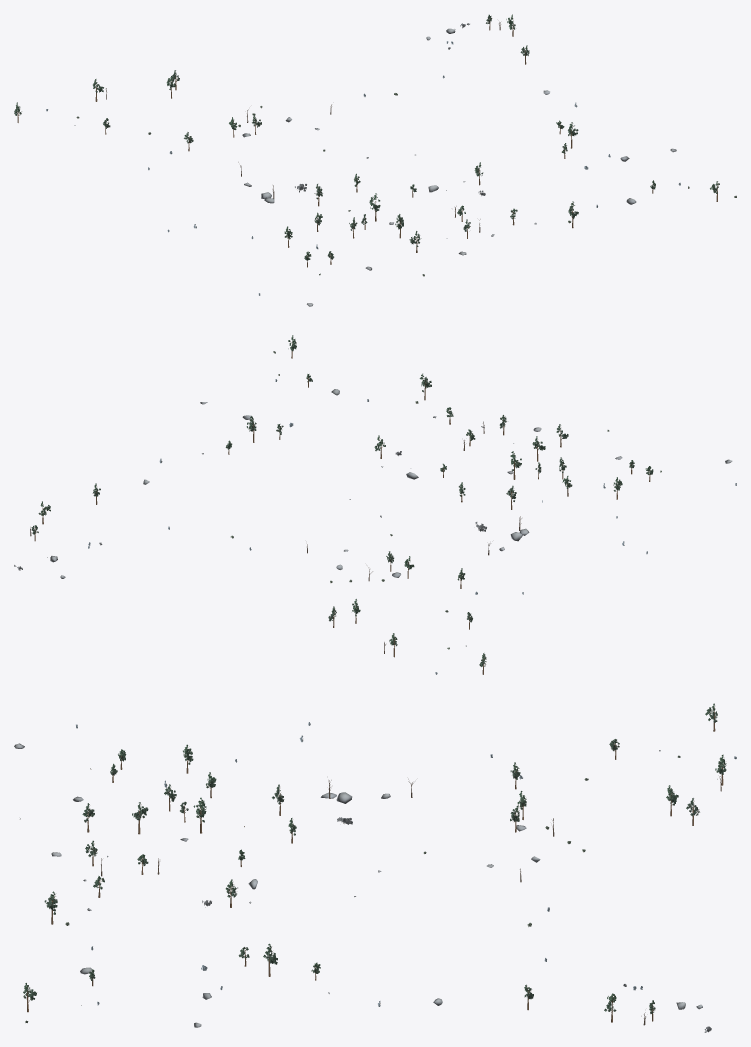
Rendered from frost_land_scatter_c14_09.glb.
The picture shows the model from 3 angles, top to bottom: view 1: azimuth 30°, elevation 25°; view 2: azimuth 150°, elevation 25°; view 3: azimuth 270°, elevation 25°; orthographic projection. The views are drawn at different scales.
Visible parts, largest first — view 1: frost_land_scatter_c14_09; view 2: frost_land_scatter_c14_09; view 3: frost_land_scatter_c14_09.
Part boxes in pixels (x1=…): frost_land_scatter_c14_09: x1=14, y1=14, x2=736, y2=306; frost_land_scatter_c14_09: x1=14, y1=335, x2=736, y2=674; frost_land_scatter_c14_09: x1=14, y1=703, x2=736, y2=1032.
Bounding box in the file's own units: 255 × 22.31 × 258.
